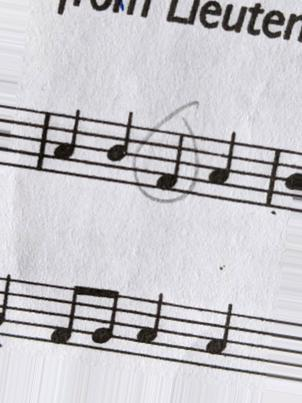A: (204, 127, 238, 208), (202, 301, 236, 376), (134, 290, 166, 366), (50, 107, 83, 180)
B: (103, 110, 135, 192)
F: (151, 127, 187, 200)
